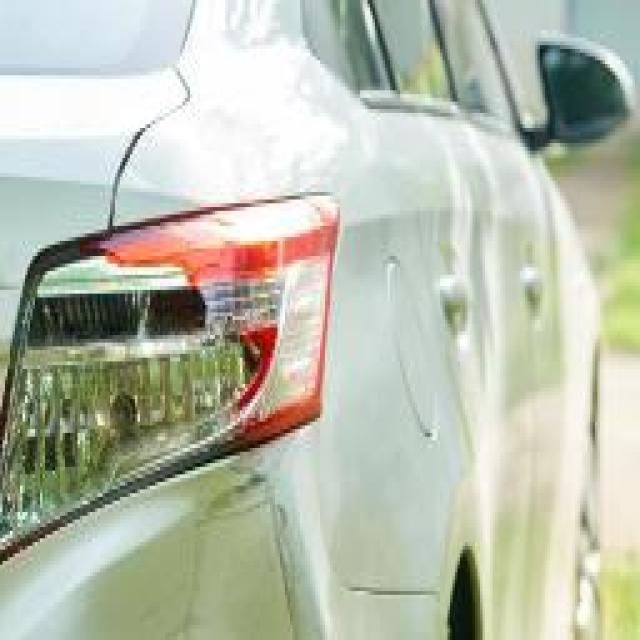Bumper: (158, 452, 325, 640)
Light: (18, 226, 338, 471)
